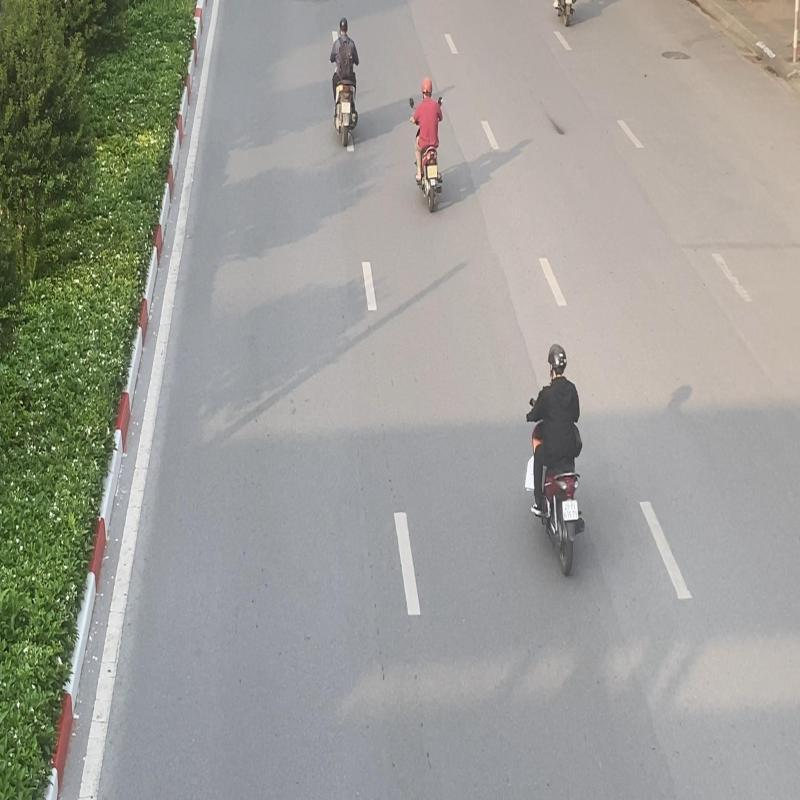helmet: (548, 343, 567, 378), (422, 76, 434, 99), (339, 16, 348, 34)
licenseplate: (562, 499, 580, 522), (427, 164, 438, 179), (342, 101, 350, 114)
motorcyclist: (525, 342, 587, 576), (408, 75, 445, 213), (329, 16, 359, 148)
